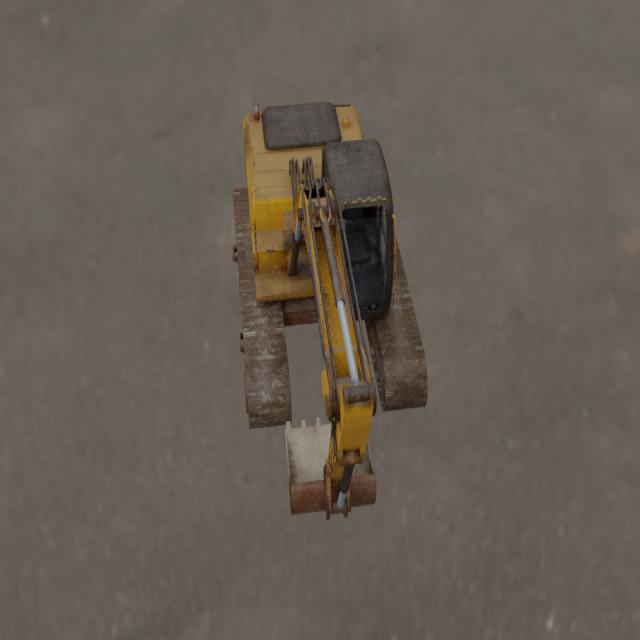excavator: (231, 100, 428, 520)
